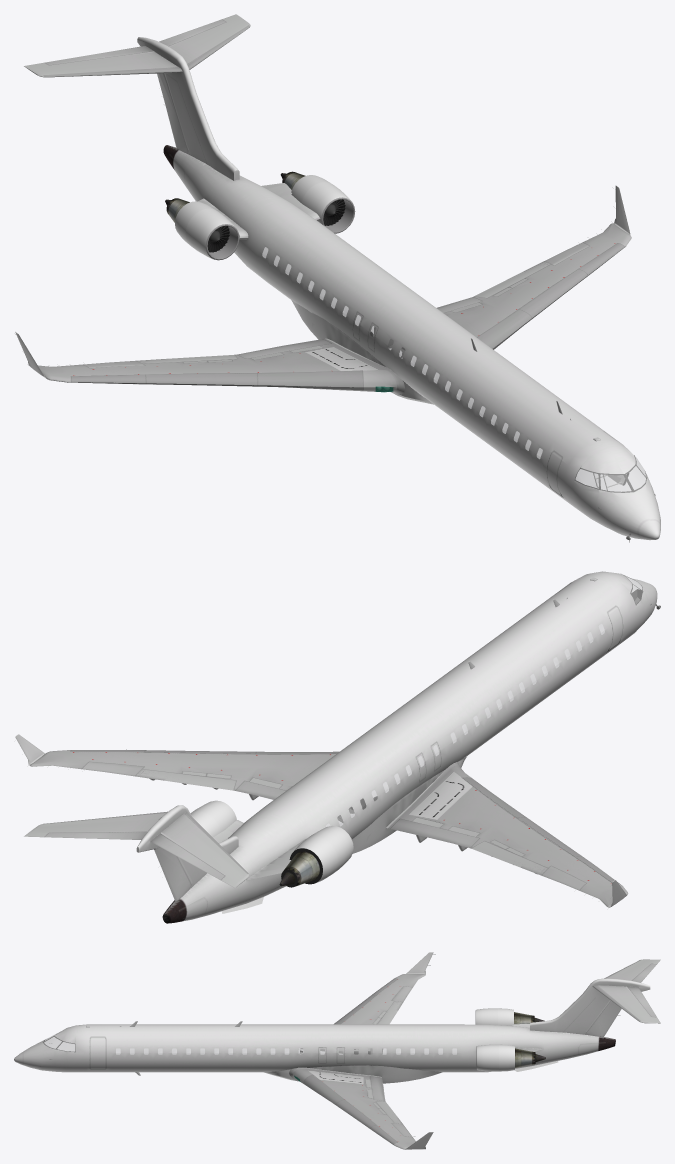
Rendered from CRJ9.glb.
3 views of the same model, one above another, from view 1: azimuth 30°, elevation 25°; view 2: azimuth 150°, elevation 25°; view 3: azimuth 270°, elevation 25° (orthographic). The views are drawn at different scales.
Parts seen in each view (by area): view 1: Fuselage.001, Wings.001, Hstabs, Vstab.001, SlatsR, SlatsL, Belly.001, Windows, CockpitWindows, Nacelle, Nacelle.001, EnginePylons; view 2: Fuselage.001, Wings.001, Hstabs, Belly.001, Vstab.001, Windows, FlapR1, SlatsR, Rudder, FlapL2, Nozzle, Nacelle (+10 smaller); view 3: Fuselage.001, Wings.001, Vstab.001, Hstabs, Belly.001, SlatsL, Windows, Nacelle.001, LeftDoor, Rudder, Winglets, Reverser.001 (+2 smaller).
Part boxes in pixels (x1,y1,x2,y2): Fuselage.001: [163, 145, 660, 540]; Wings.001: [38, 223, 631, 395]; Hstabs: [24, 14, 250, 77]; Vstab.001: [137, 37, 239, 180]; SlatsR: [71, 370, 363, 390]; SlatsL: [477, 243, 624, 349]; Belly.001: [291, 300, 433, 404]; Windows: [262, 247, 542, 458]; CockpitWindows: [575, 457, 645, 491]; Nacelle: [185, 208, 236, 259]; Nacelle.001: [302, 182, 352, 223]; EnginePylons: [198, 183, 320, 239]; Fuselage.001: [162, 571, 657, 923]; Wings.001: [30, 750, 628, 907]; Hstabs: [24, 811, 249, 887]; Belly.001: [352, 757, 466, 853]; Vstab.001: [136, 805, 238, 901]; Windows: [326, 624, 604, 826]; FlapR1: [390, 818, 479, 851]; SlatsR: [462, 777, 619, 883]; Rudder: [154, 847, 190, 901]; FlapL2: [135, 769, 236, 790]; Nozzle: [280, 851, 319, 886]; Nacelle: [307, 826, 353, 873]; Fuselage.001: [14, 1024, 615, 1072]; Wings.001: [289, 974, 425, 1149]; Vstab.001: [530, 978, 650, 1036]; Hstabs: [592, 959, 660, 1023]; Belly.001: [264, 1065, 441, 1083]; SlatsL: [304, 1074, 397, 1144]; Windows: [116, 1048, 456, 1054]; Nacelle.001: [477, 1044, 498, 1071]; LeftDoor: [90, 1036, 106, 1069]; Rudder: [587, 1001, 621, 1036]; Winglets: [406, 952, 433, 1149]; Reverser.001: [499, 1044, 514, 1071].
Size of the model in its own units: 23.91 by 6.09 by 36.36.
11 materials, 5 textured.
